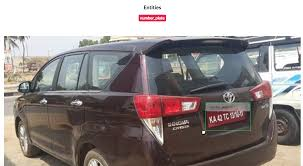number_plate: (206, 101, 250, 132)
